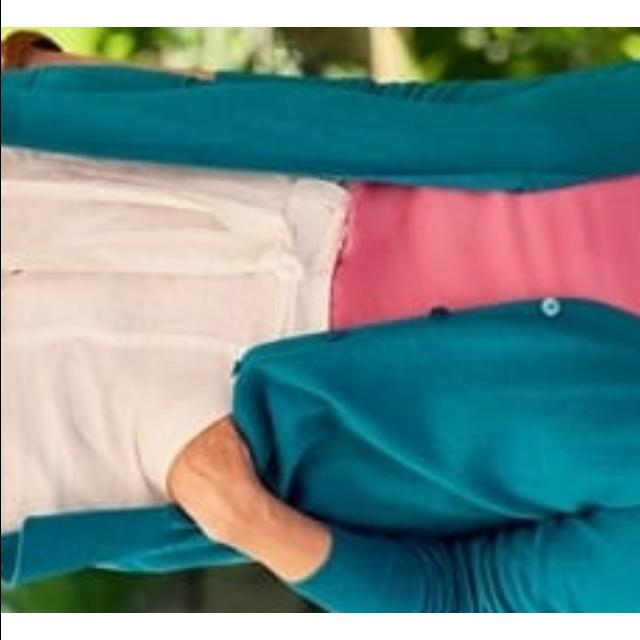silk: (308, 27, 640, 613)
